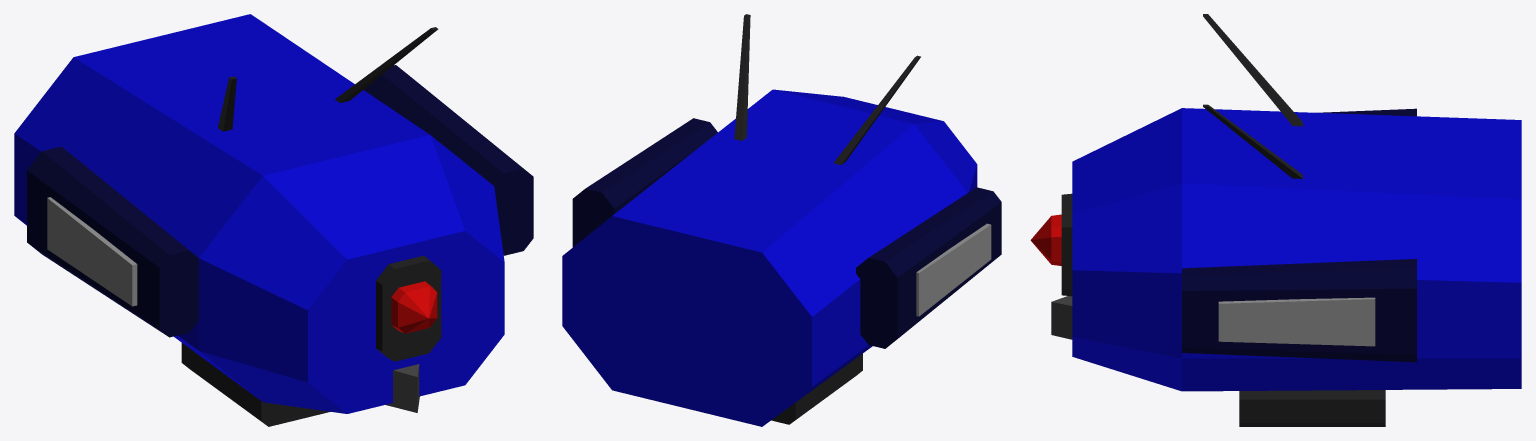
The model's file is Head_Oracle.obj.
3 renders of one model, left to right at view 1: azimuth 30°, elevation 25°; view 2: azimuth 150°, elevation 25°; view 3: azimuth 270°, elevation 25°, orthographic. The views are drawn at different scales.
Visible parts, largest first — view 1: hblue, navy, dark, light, red, gray; view 2: hblue, navy, dark, light; view 3: hblue, navy, dark, light, red, gray.
Part boxes in pixels (x1=…): hblue: x1=14, y1=14, x2=504, y2=413; navy: x1=27, y1=65, x2=533, y2=337; dark: x1=181, y1=27, x2=441, y2=426; light: x1=47, y1=197, x2=137, y2=306; red: x1=391, y1=281, x2=437, y2=333; gray: x1=385, y1=364, x2=419, y2=412; hblue: x1=562, y1=89, x2=977, y2=426; navy: x1=572, y1=118, x2=1001, y2=348; dark: x1=734, y1=14, x2=920, y2=424; light: x1=916, y1=223, x2=991, y2=316; hblue: x1=1072, y1=108, x2=1521, y2=391; navy: x1=1182, y1=108, x2=1416, y2=362; dark: x1=1061, y1=14, x2=1385, y2=426; light: x1=1218, y1=297, x2=1375, y2=346; red: x1=1030, y1=214, x2=1061, y2=265; gray: x1=1051, y1=296, x2=1072, y2=339.
Size of the model in its own units: 0.79 by 0.73 by 0.94.
